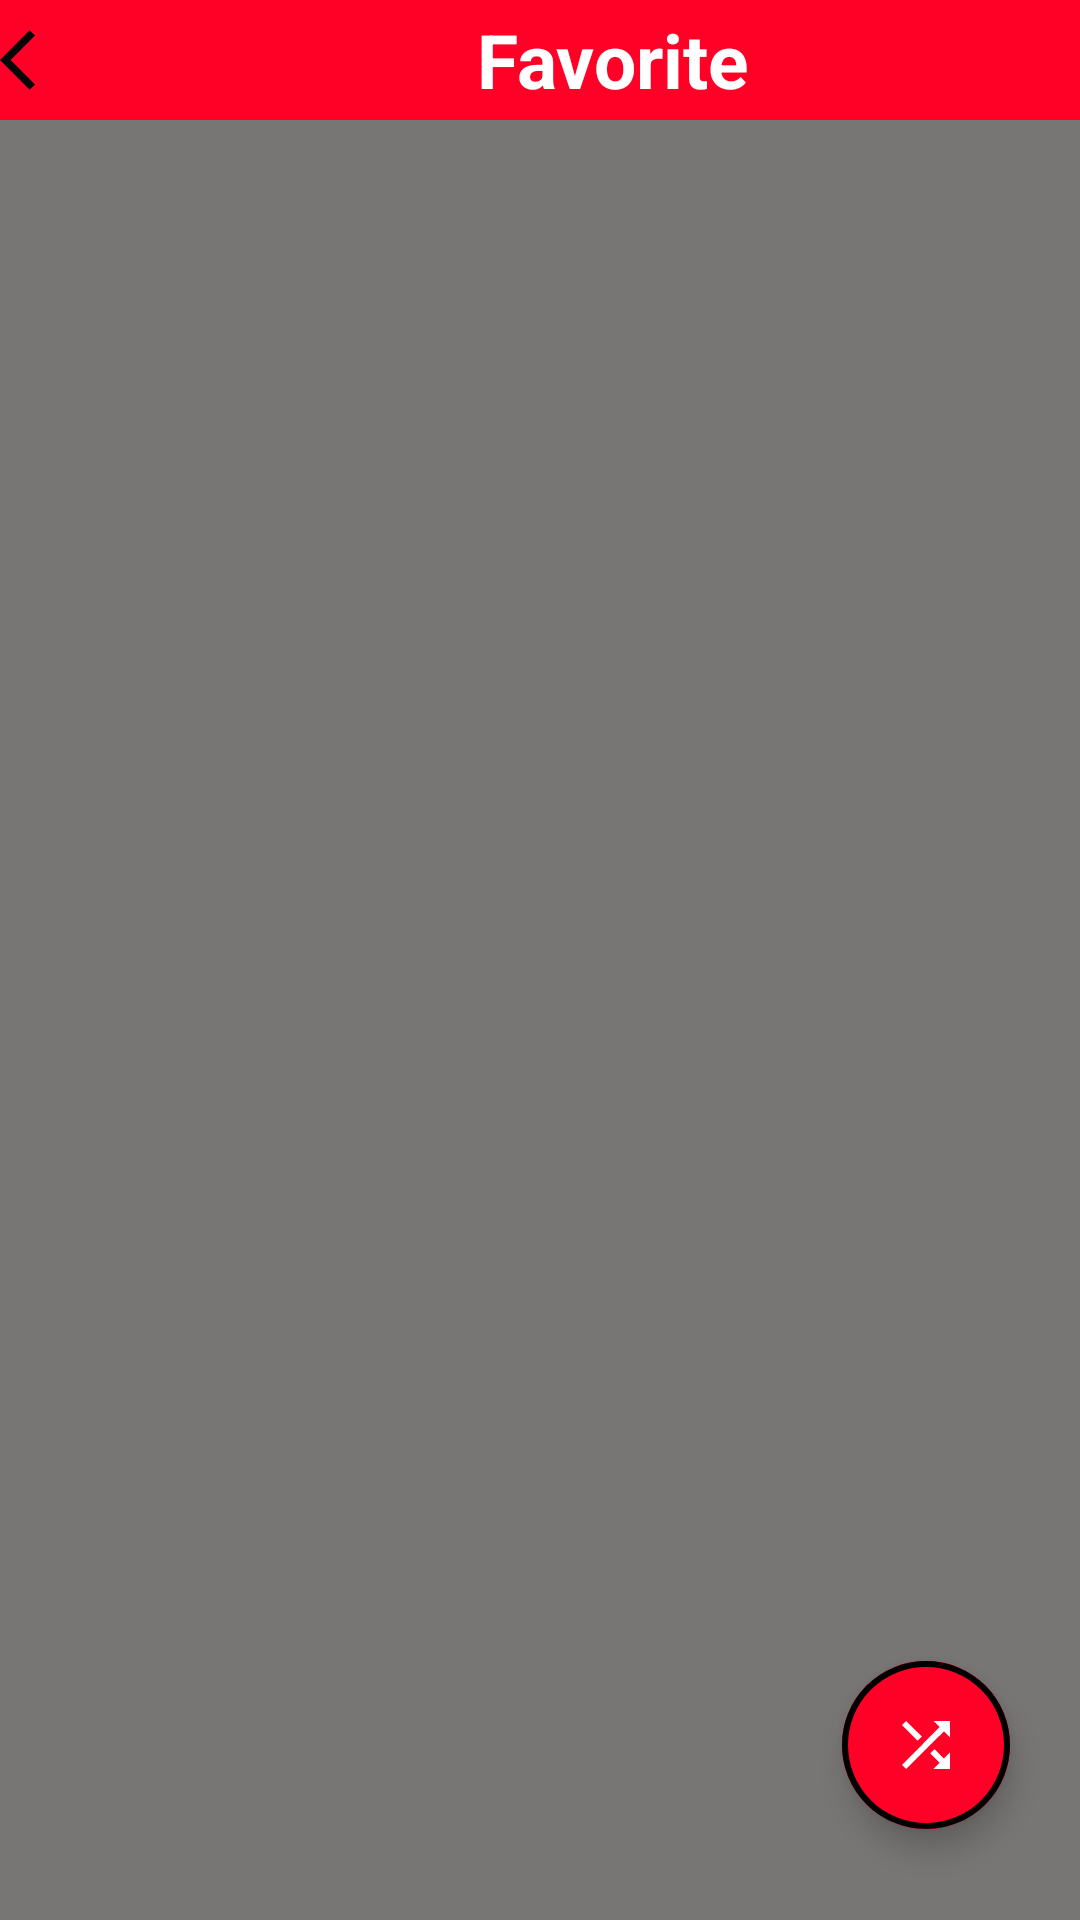

Icon bounding boxes for this 1080 × 1920 phone screenshot, format (x1, y1, x2, y2):
back Button: (0, 30, 35, 90)
shuffle: (842, 1661, 1010, 1829)
